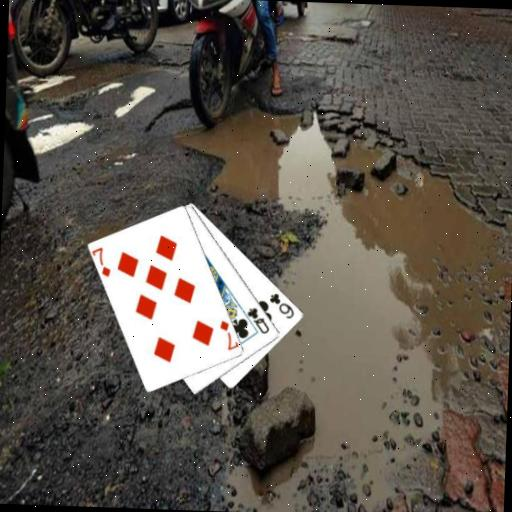6C: (266, 289, 297, 320)
7D: (216, 317, 240, 352), (89, 243, 113, 278)
QC: (244, 304, 272, 335)
